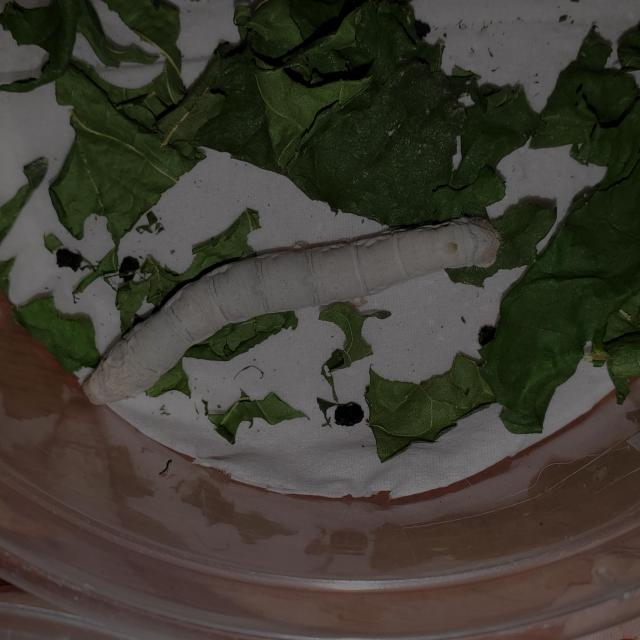Healthy: (72, 212, 505, 408)
